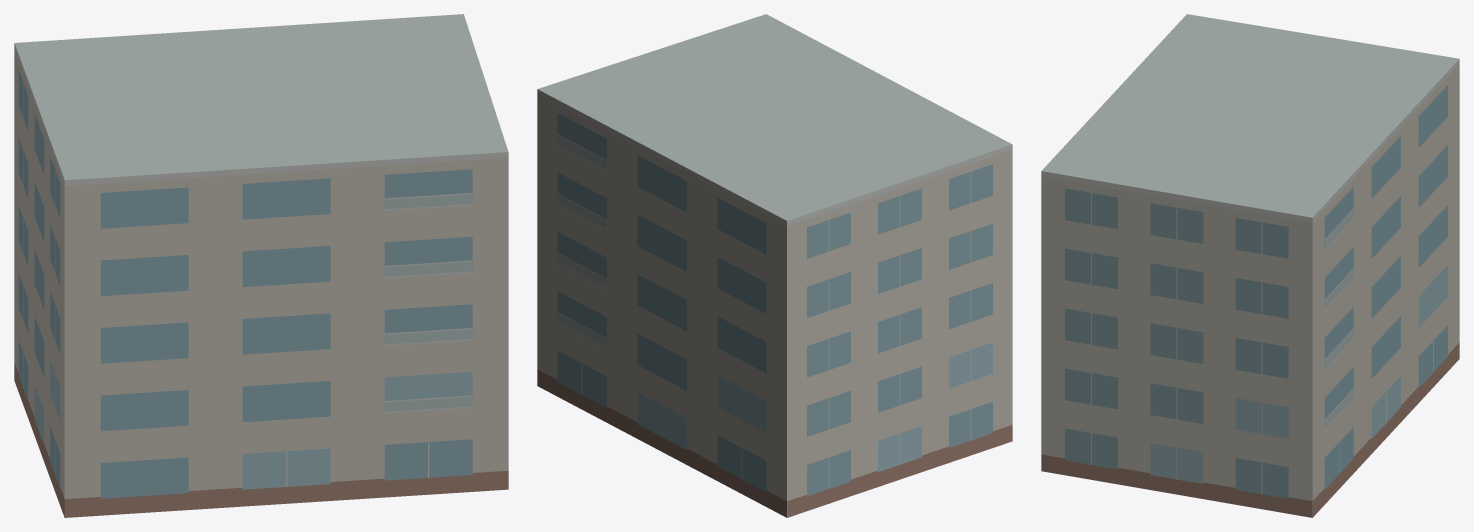
Rendered from survey-upis-32750517.glb.
3 renders of one model, left to right at view 1: azimuth 30°, elevation 25°; view 2: azimuth 150°, elevation 25°; view 3: azimuth 270°, elevation 25°, orthographic. The views are drawn at different scales.
Visible parts, largest first — view 1: survey-upis-32750517.tmp; view 2: survey-upis-32750517.tmp; view 3: survey-upis-32750517.tmp.
Boxes of the visible parts, x1,y1,x2,y2 form: survey-upis-32750517.tmp: (14, 14, 508, 517); survey-upis-32750517.tmp: (537, 14, 1012, 517); survey-upis-32750517.tmp: (1041, 14, 1459, 517).
Size of the model in its own units: 20.98 by 14.4 by 18.2.
